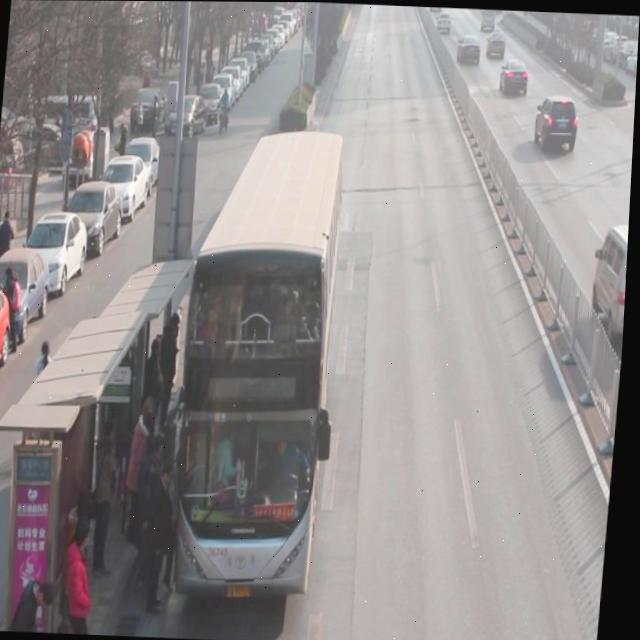car: (533, 93, 582, 154), (498, 56, 532, 97), (454, 32, 483, 68), (484, 28, 508, 60), (434, 10, 453, 37)
truck: (590, 220, 631, 344), (478, 8, 496, 32)
van: (172, 135, 350, 595)
